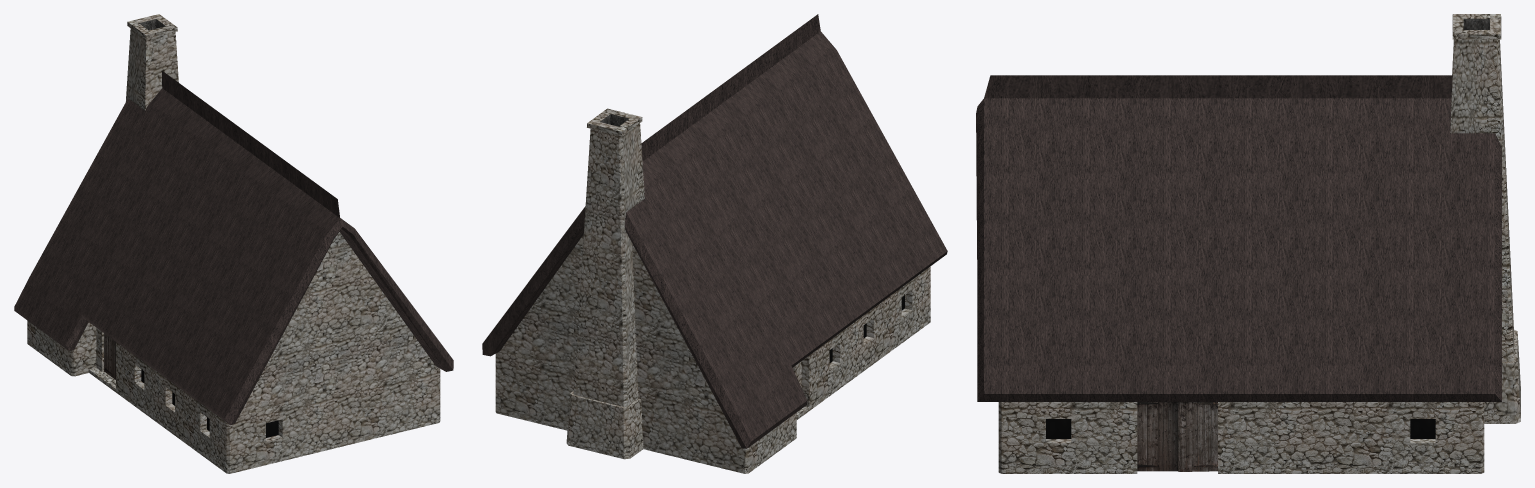
File: poorfolks_barn.FBX
3 renders of one model, left to right at view 1: azimuth 30°, elevation 25°; view 2: azimuth 150°, elevation 25°; view 3: azimuth 270°, elevation 25°, orthographic. The views are drawn at different scales.
Parts seen in each view (by area): view 1: poorfolks_barn_bricks001; view 2: poorfolks_barn_bricks001; view 3: poorfolks_barn_bricks001.
Boxes of the visible parts, x1,y1,x2,y2 form: poorfolks_barn_bricks001: (14,14,453,473); poorfolks_barn_bricks001: (482,14,947,473); poorfolks_barn_bricks001: (976,14,1520,473).
Size of the model in its own units: 1174 by 1723 by 1330.
